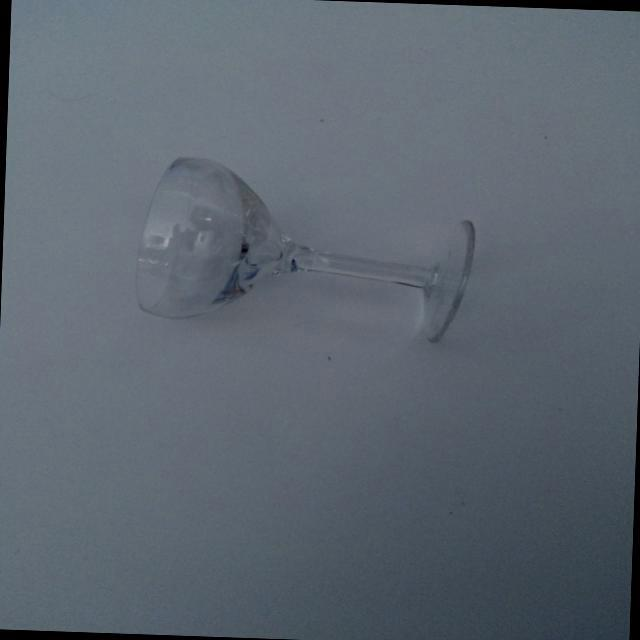glass: (116, 145, 490, 364)
